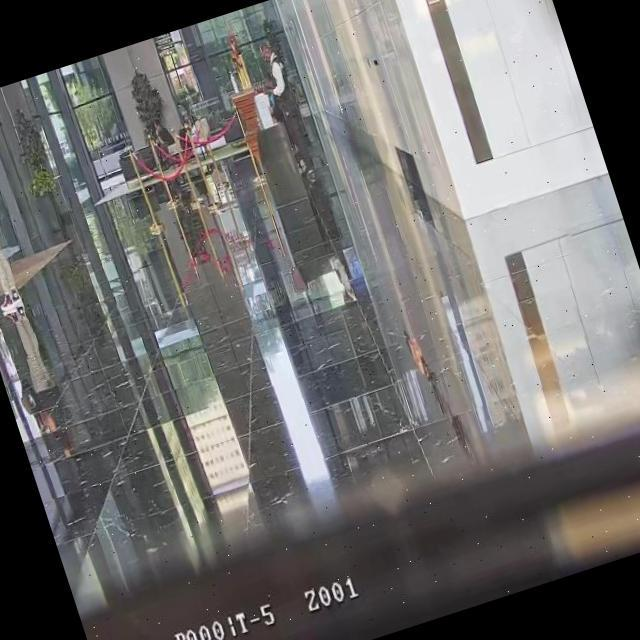person: (251, 37, 319, 177), (0, 134, 29, 328), (146, 116, 182, 171)
